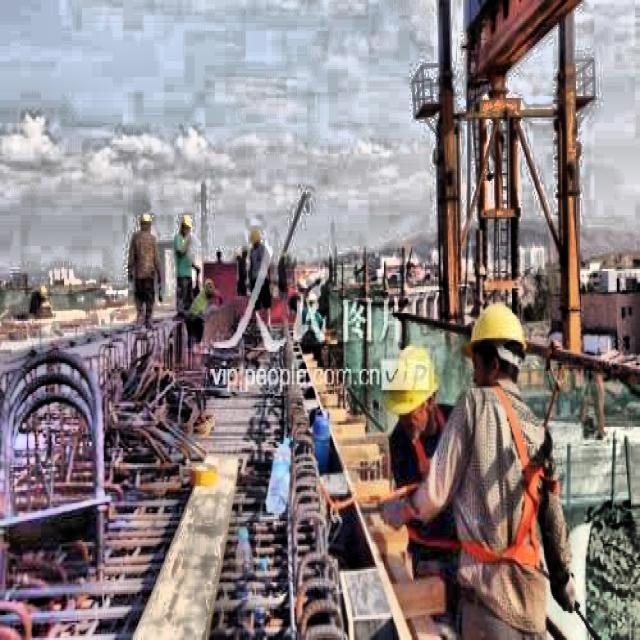helmet: (463, 294, 532, 400), (382, 338, 442, 434), (178, 213, 193, 240), (250, 226, 264, 254)
